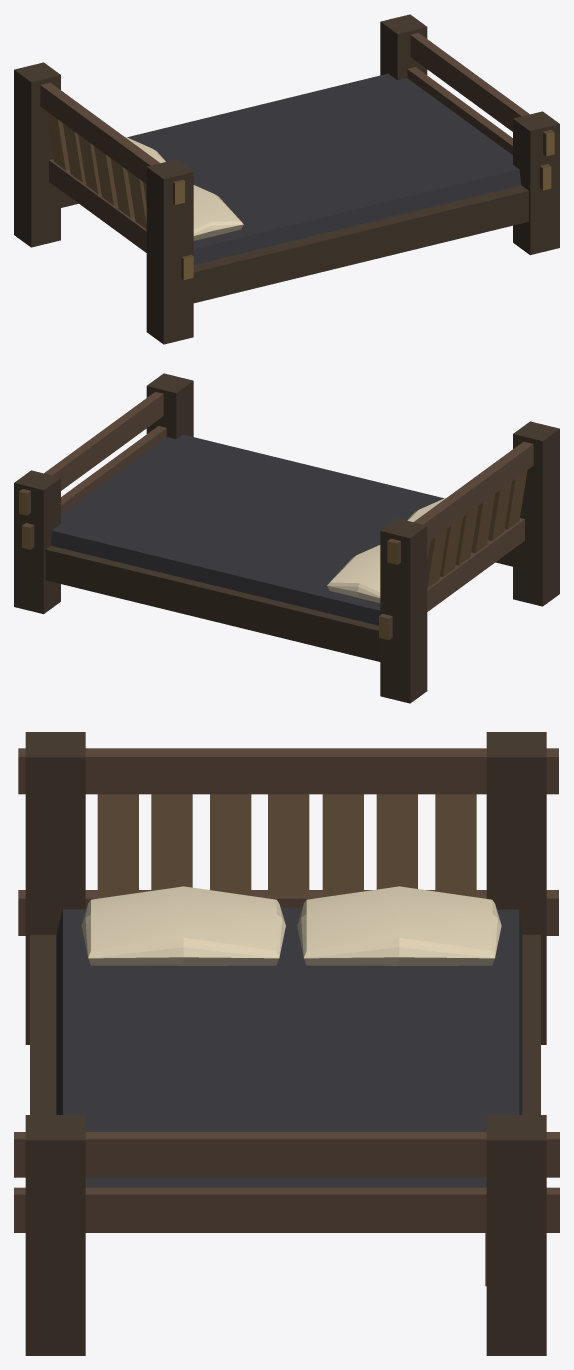
Rendered from Bed_1.fbx.
The picture shows the model from 3 angles, top to bottom: view 1: azimuth 30°, elevation 25°; view 2: azimuth 150°, elevation 25°; view 3: azimuth 270°, elevation 25°; orthographic projection. The views are drawn at different scales.
Visible parts, largest first — view 1: pCube2430; view 2: pCube2430; view 3: pCube2430.
Boxes of the visible parts, x1=… form: pCube2430: x1=14, y1=14, x2=559, y2=344; pCube2430: x1=14, y1=373, x2=559, y2=703; pCube2430: x1=14, y1=732, x2=559, y2=1355.
Bounding box in the file's own units: 202 × 80.37 × 138.
